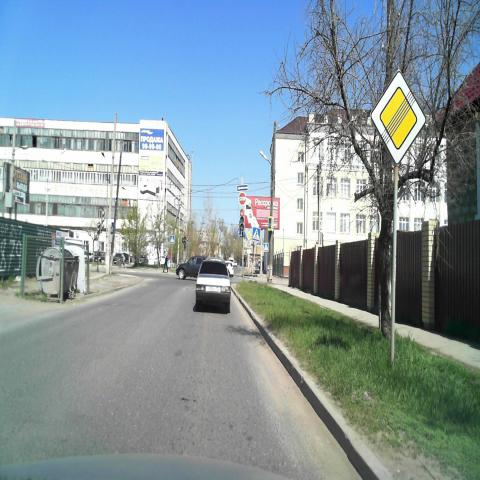2_5: (238, 192, 246, 206)
